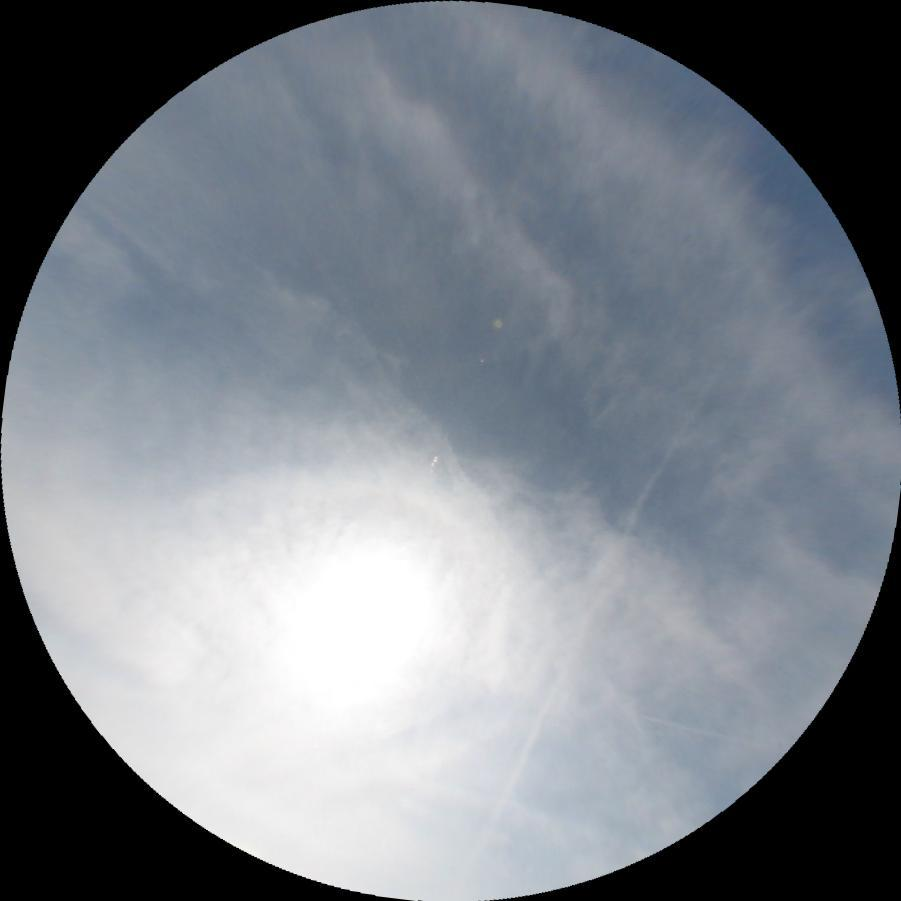contrail veryold: (449, 370, 716, 884)
contrail young: (639, 711, 749, 745)
sun: (255, 521, 457, 726)
